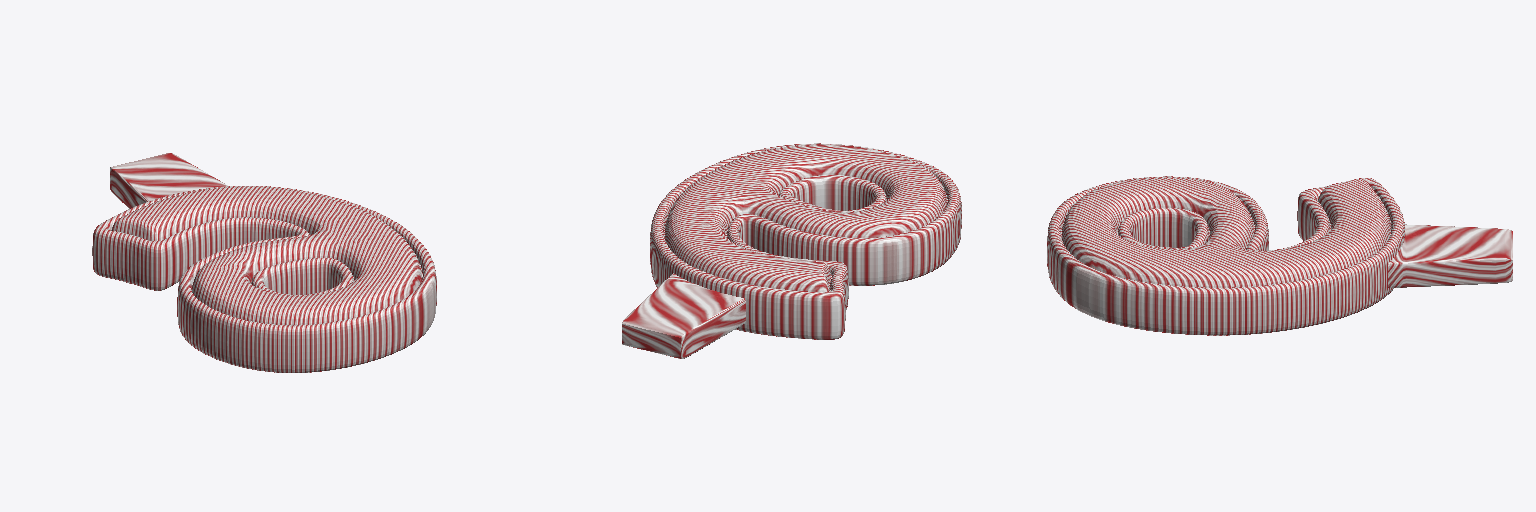
The picture shows the model from 3 angles: view 1: azimuth 30°, elevation 25°; view 2: azimuth 150°, elevation 25°; view 3: azimuth 270°, elevation 25°; orthographic projection.
Visible parts, largest first — view 1: nine; view 2: nine; view 3: nine.
Part boxes in pixels (left/top/right/bottom): nine: left=92, top=153, right=436, bottom=372; nine: left=622, top=143, right=961, bottom=358; nine: left=1047, top=176, right=1512, bottom=335.
Bounding box in the file's own units: 7.74 × 1.98 × 12.92.
Materials: 1 (1 with a texture image).